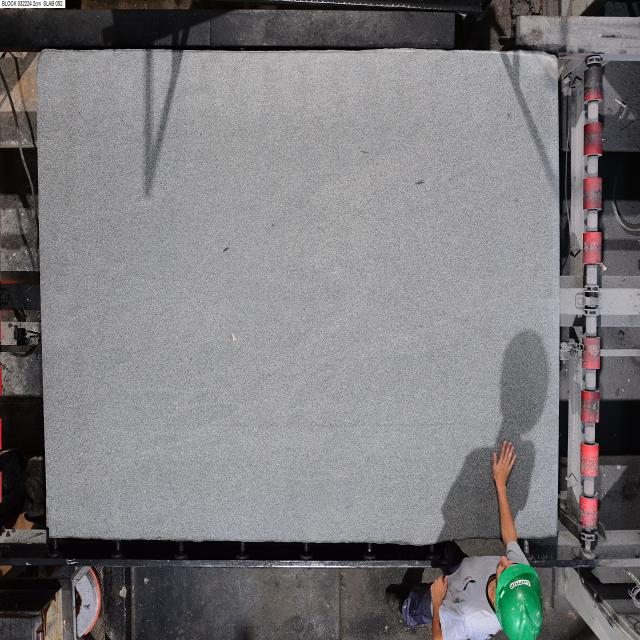chapa: (38, 49, 559, 544)
